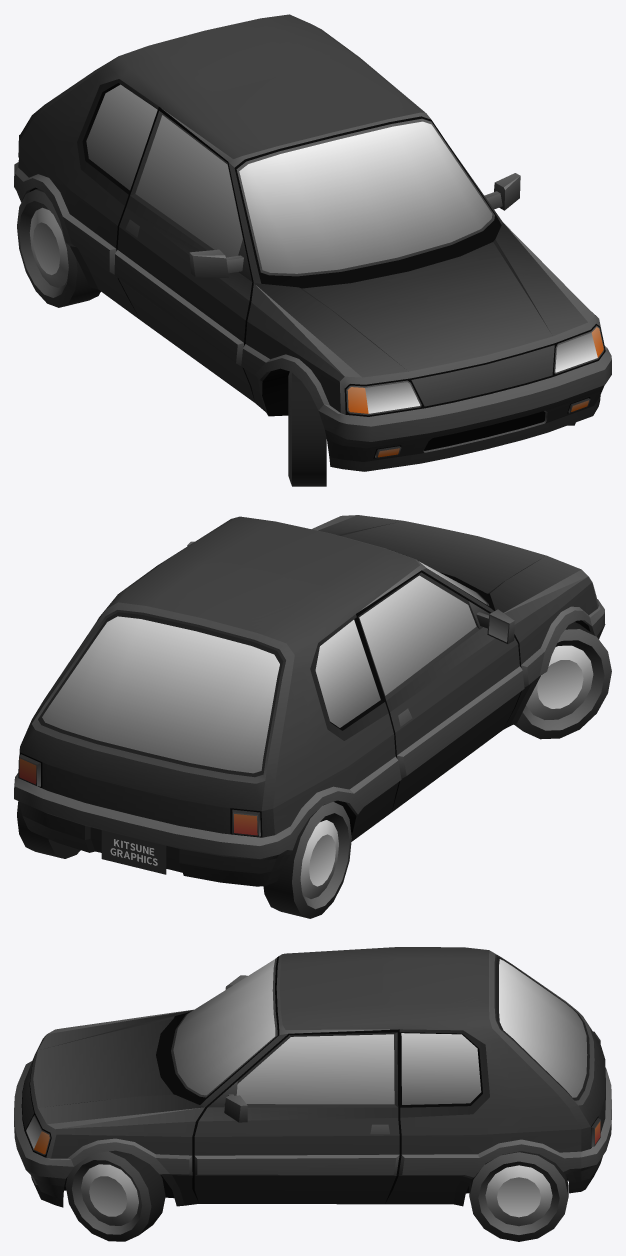
Rendered from vehicle5.gltf.
The picture shows the model from 3 angles, top to bottom: view 1: azimuth 30°, elevation 25°; view 2: azimuth 150°, elevation 25°; view 3: azimuth 270°, elevation 25°; orthographic projection. The views are drawn at different scales.
Parts seen in each view (by area): view 1: Body, RRW, FRW; view 2: Body, FRW, RRW, RLW; view 3: Body, RLW, FLW.
Boxes of the visible parts, x1=… form: Body: x1=14, y1=14, x2=611, y2=471; RRW: x1=17, y1=188, x2=100, y2=307; FRW: x1=288, y1=371, x2=326, y2=486; Body: x1=14, y1=515, x2=605, y2=886; FRW: x1=514, y1=622, x2=611, y2=739; RRW: x1=263, y1=802, x2=351, y2=918; RLW: x1=17, y1=801, x2=80, y2=858; Body: x1=14, y1=947, x2=611, y2=1207; RLW: x1=469, y1=1151, x2=568, y2=1241; FLW: x1=65, y1=1150, x2=165, y2=1241.
Bounding box in the file's own units: 1.26 × 0.9298 × 2.43.
1 material, 1 textured.
